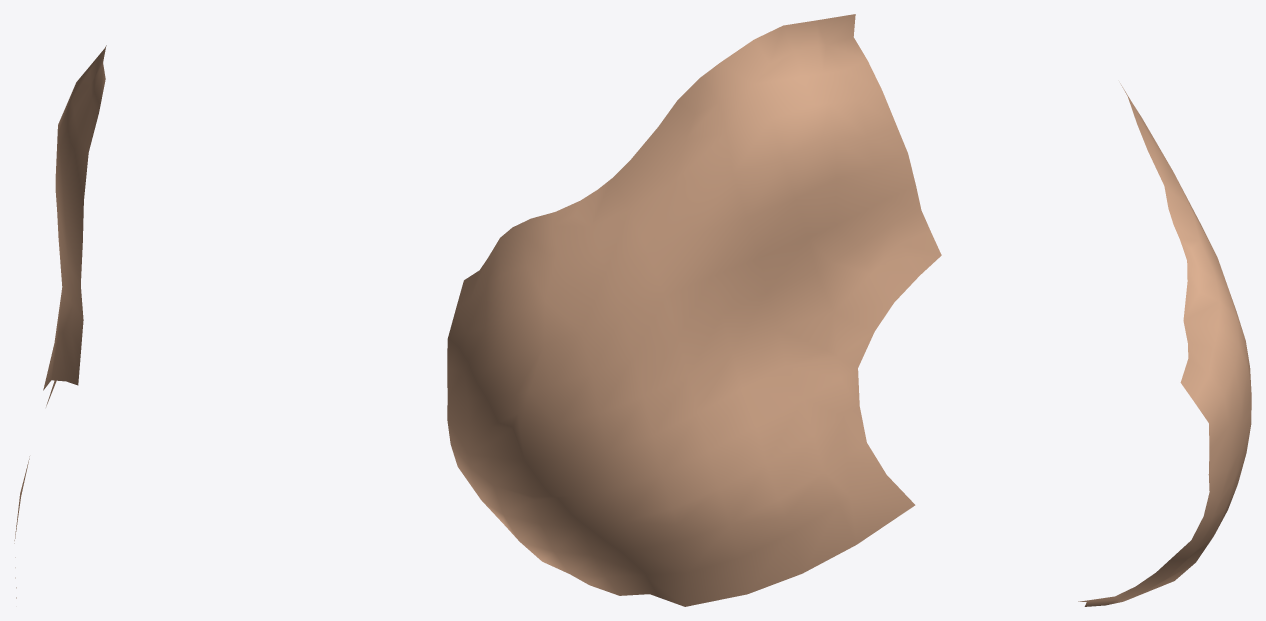
The model's file is gluteal-region-r.glb.
3 views of the same model, side by side, from view 1: azimuth 30°, elevation 25°; view 2: azimuth 150°, elevation 25°; view 3: azimuth 270°, elevation 25° (orthographic). The views are drawn at different scales.
Visible parts, largest first — view 1: Gluteal region.r; view 2: Gluteal region.r; view 3: Gluteal region.r.
Part boxes in pixels (<box>): Gluteal region.r: <box>14,45,106,598</box>; Gluteal region.r: <box>447,14,941,606</box>; Gluteal region.r: <box>1078,83,1251,606</box>.
Size of the model in its own units: 0.1706 by 0.2453 by 0.1298.
